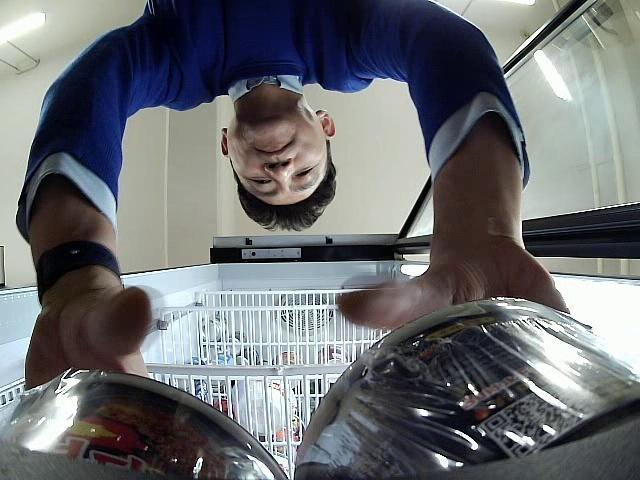07_buldak_L: (294, 298, 639, 480), (0, 371, 289, 480)
